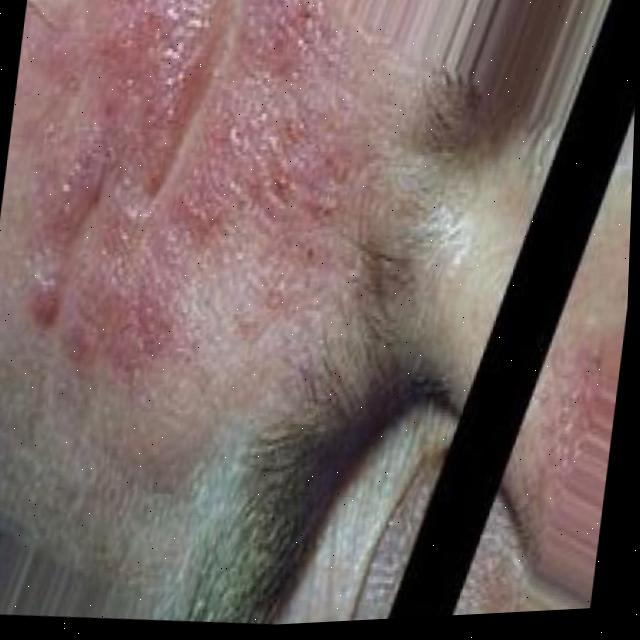Rosacea: (38, 0, 369, 385)
